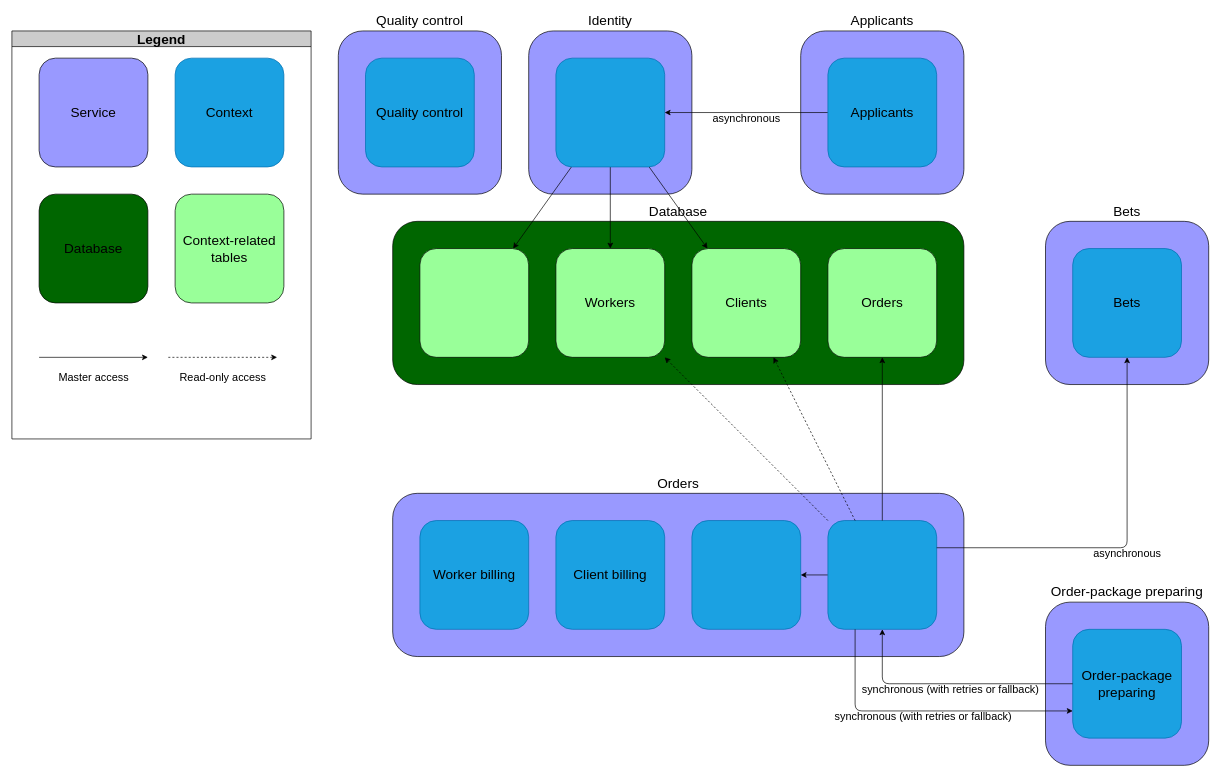
The diagram is 1221 pixels wide and 777 high, and some of its shapes have lost their labels. Each missing label, with the centre of its shape:
"Managers" belongs at point (474, 302).
"Managers, workers, client" belongs at point (610, 112).
"Matching" belongs at point (746, 574).
"Order life-cycle" belongs at point (882, 574).
